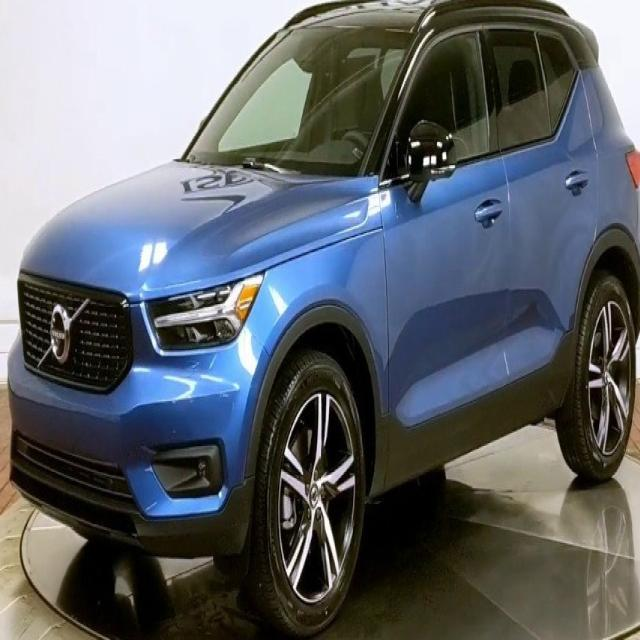blue: (7, 0, 640, 633)
